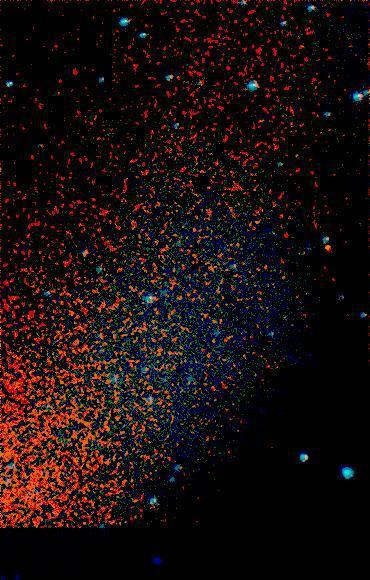star: (311, 234, 341, 264)
